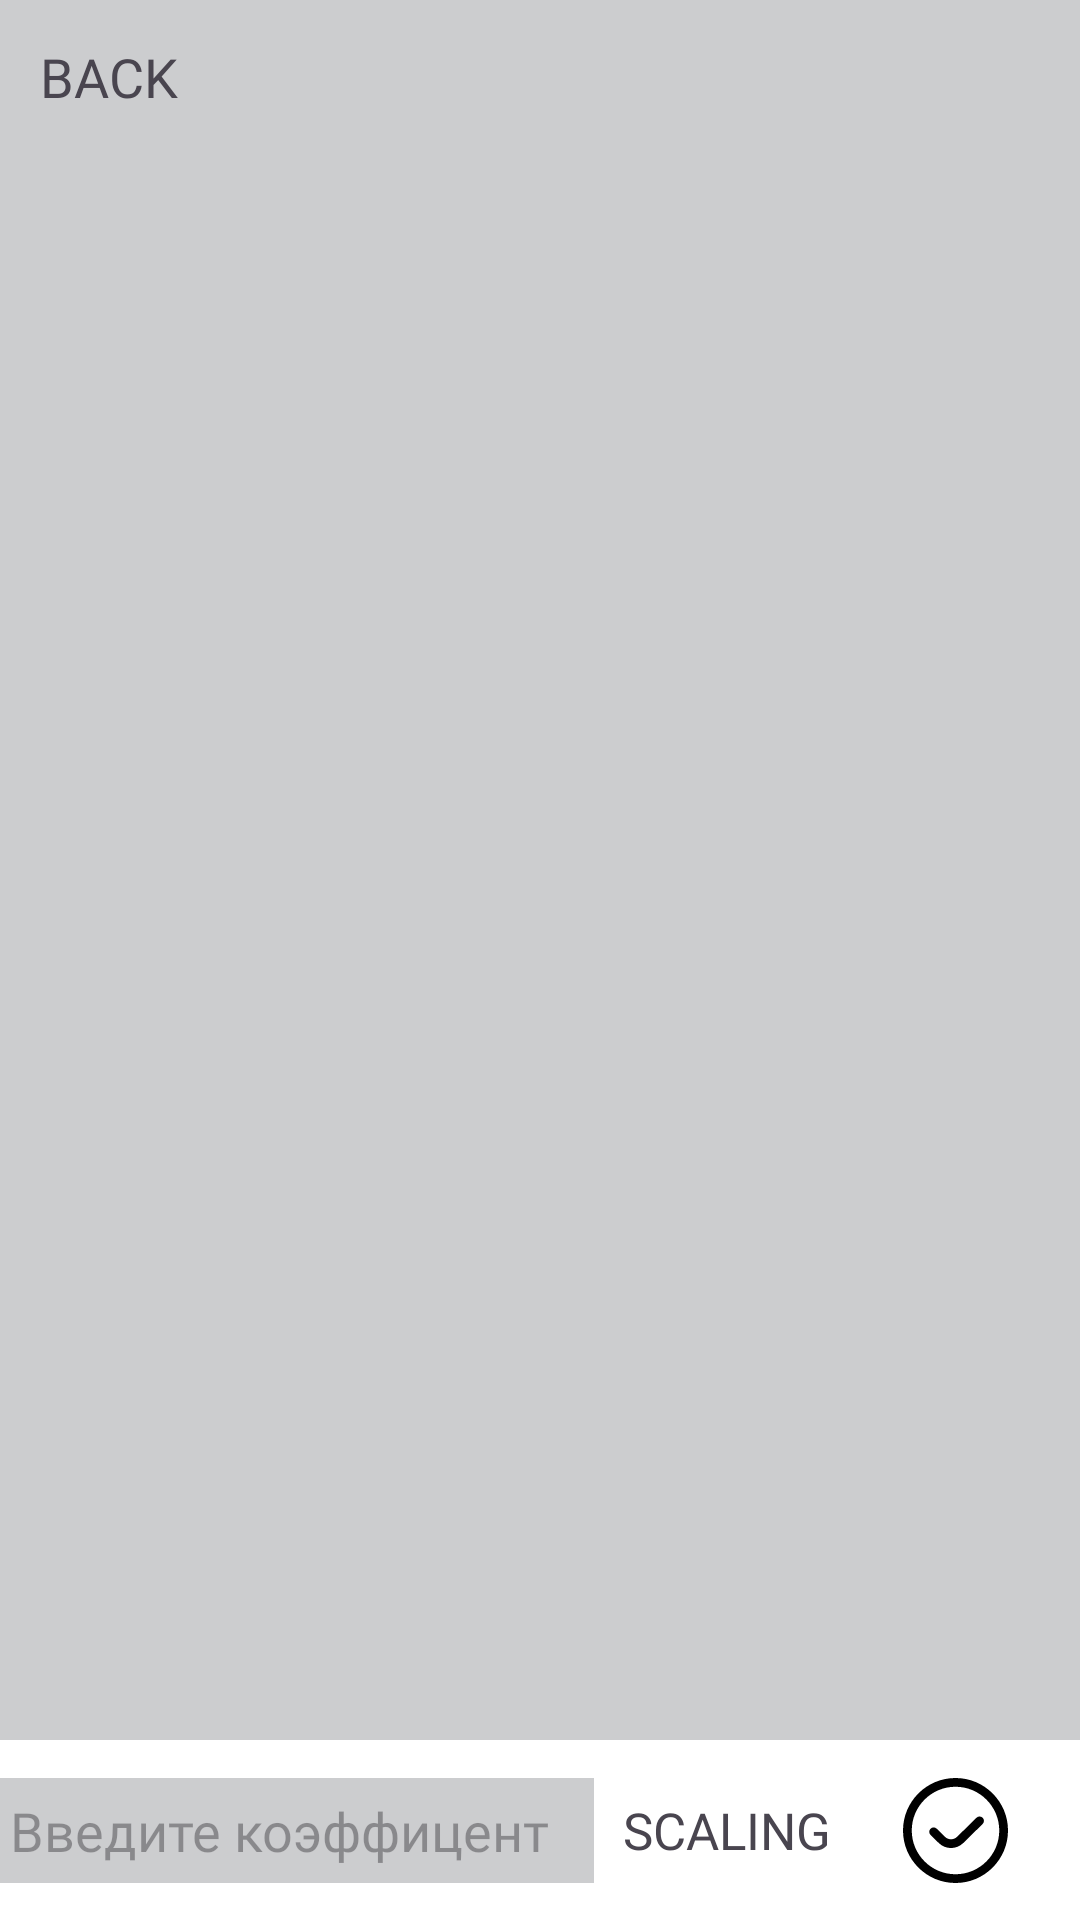

Icons on this 1080*1920 Android screen, each with the point to tap as point (x, y):
tikk: point (955, 1830)
